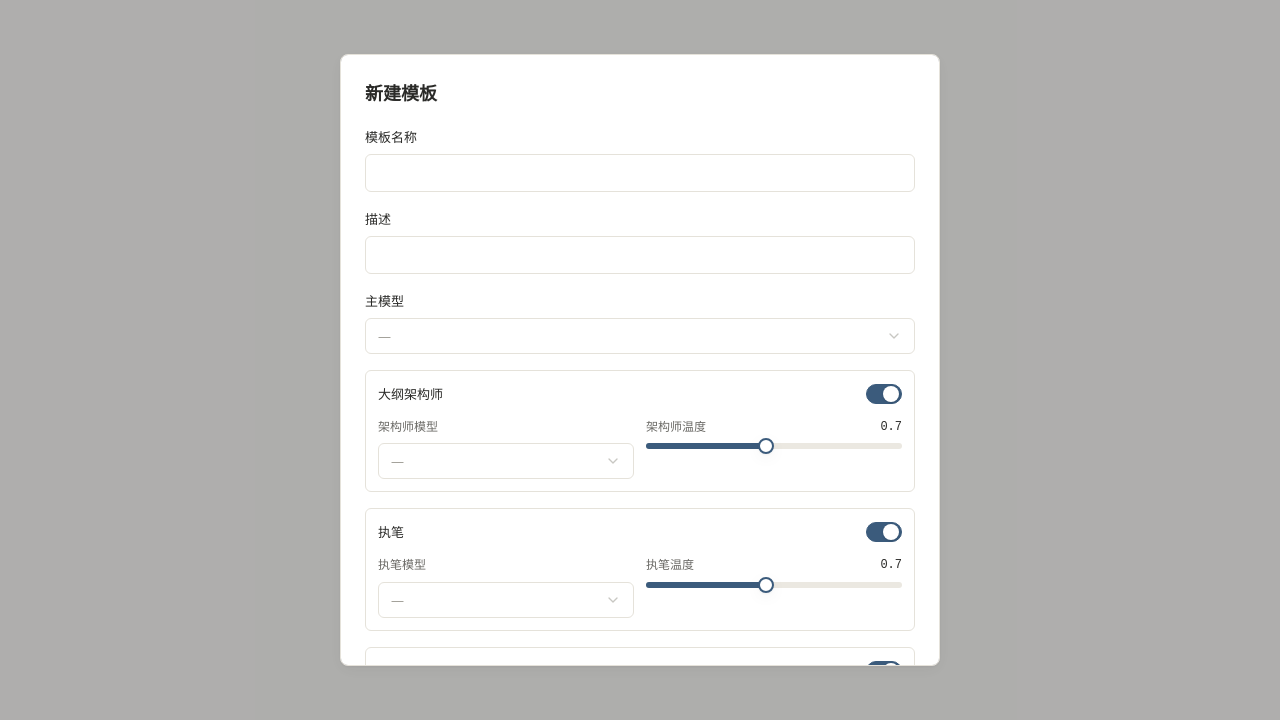
Test: TemplateDialog — 表单字段 › 模型下拉选项来自模型注册表：主模型下拉含 gpt-4o / deepseek-chat
The image size is (1280, 720).
Click the dropdown named "主模型" at (385, 336), box [365,318,915,354]
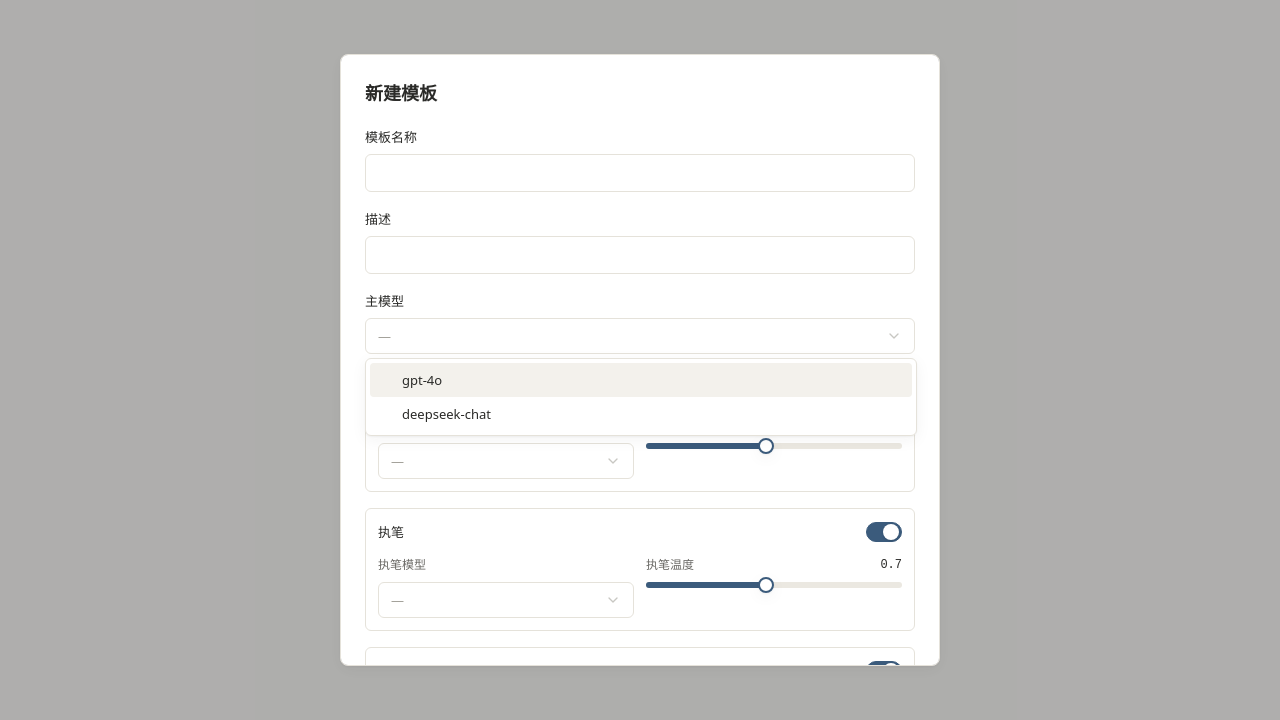
Now the option "gpt-4o" is shown, box [370,363,912,397]
Now the option "deepseek-chat" is shown, box [402,405,491,423]
